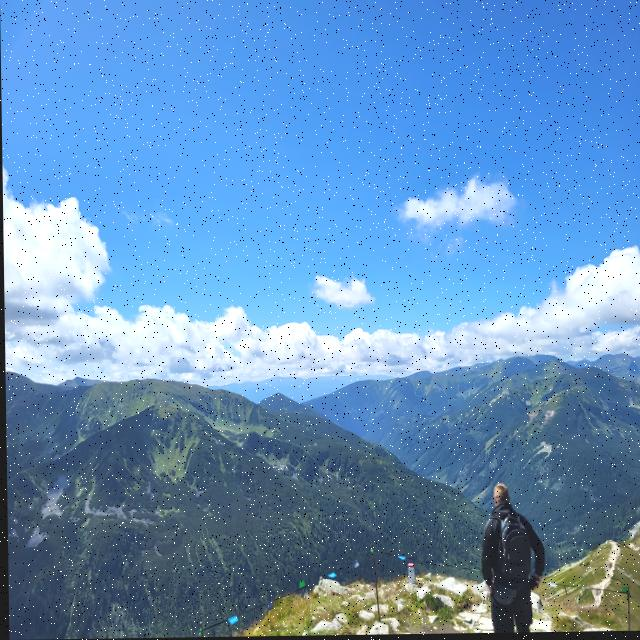Bystra: (491, 322, 563, 387)
Polska Tomanova: (541, 358, 614, 415)
Smreciny: (523, 344, 586, 378)
Velka Kamenista: (486, 338, 540, 380)
